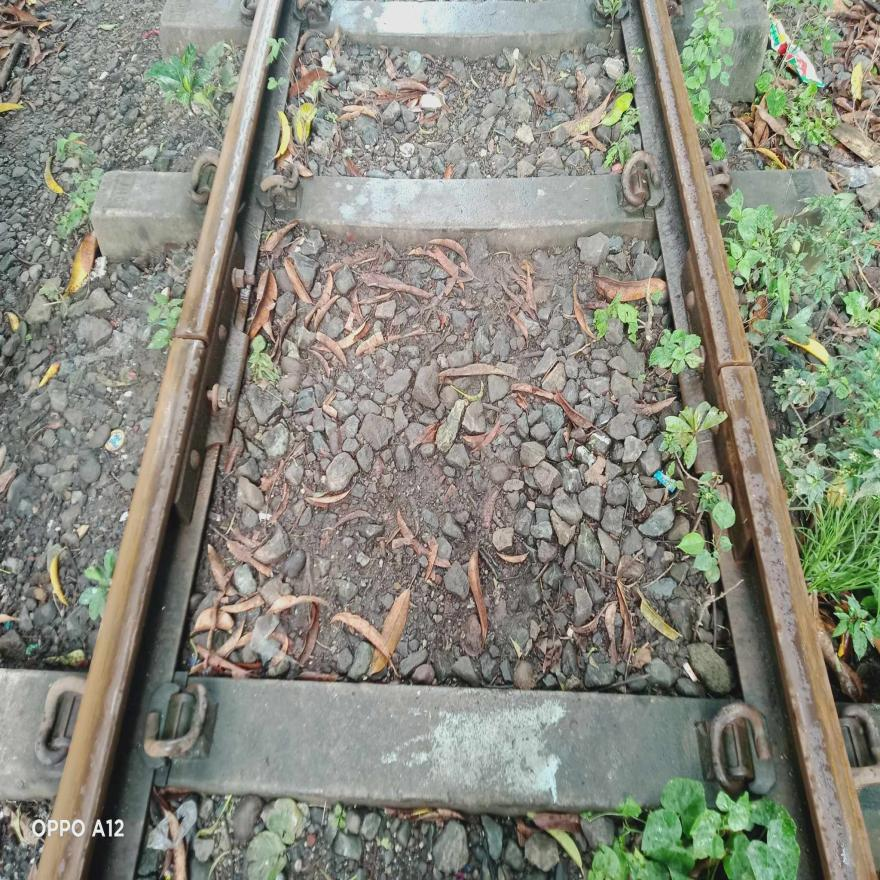railway-gap: (144, 280, 230, 397), (694, 304, 775, 424)
